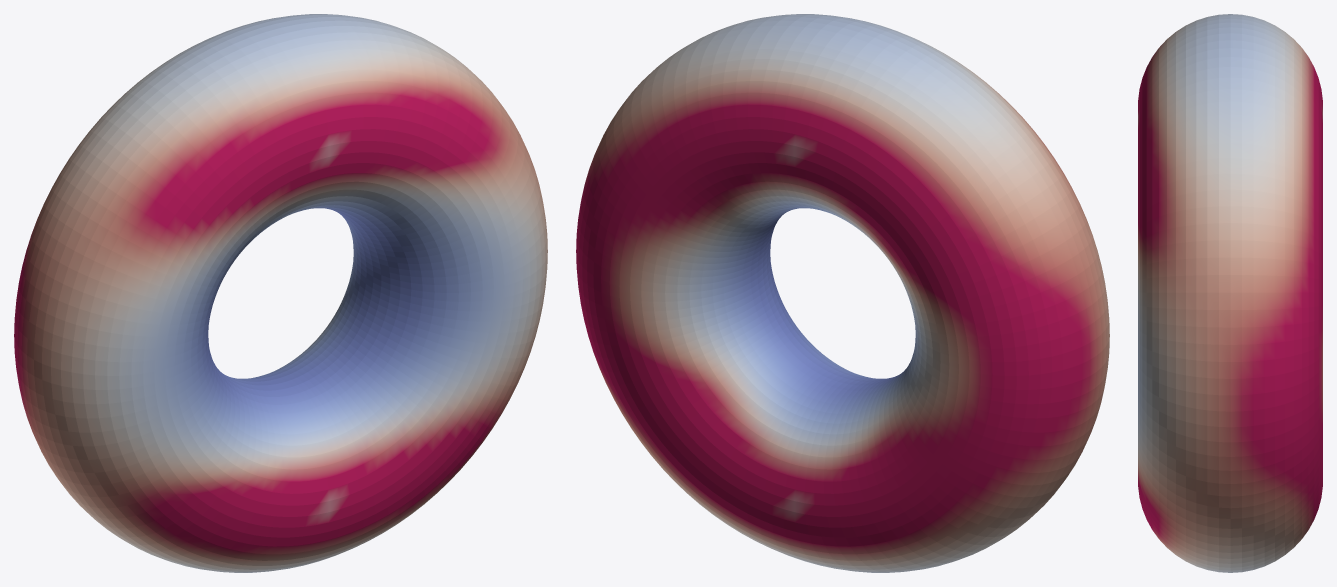
3 views of the same model, side by side, from view 1: azimuth 30°, elevation 25°; view 2: azimuth 150°, elevation 25°; view 3: azimuth 270°, elevation 25° (orthographic). The views are drawn at different scales.
Visible parts, largest first — view 1: world; view 2: world; view 3: world.
Boxes of the visible parts, x1,y1,x2,y2 form: world: [14, 14, 547, 572]; world: [576, 14, 1109, 572]; world: [1138, 14, 1322, 572].
Bounding box in the file's own units: 22.93 × 22.93 × 7.59.
